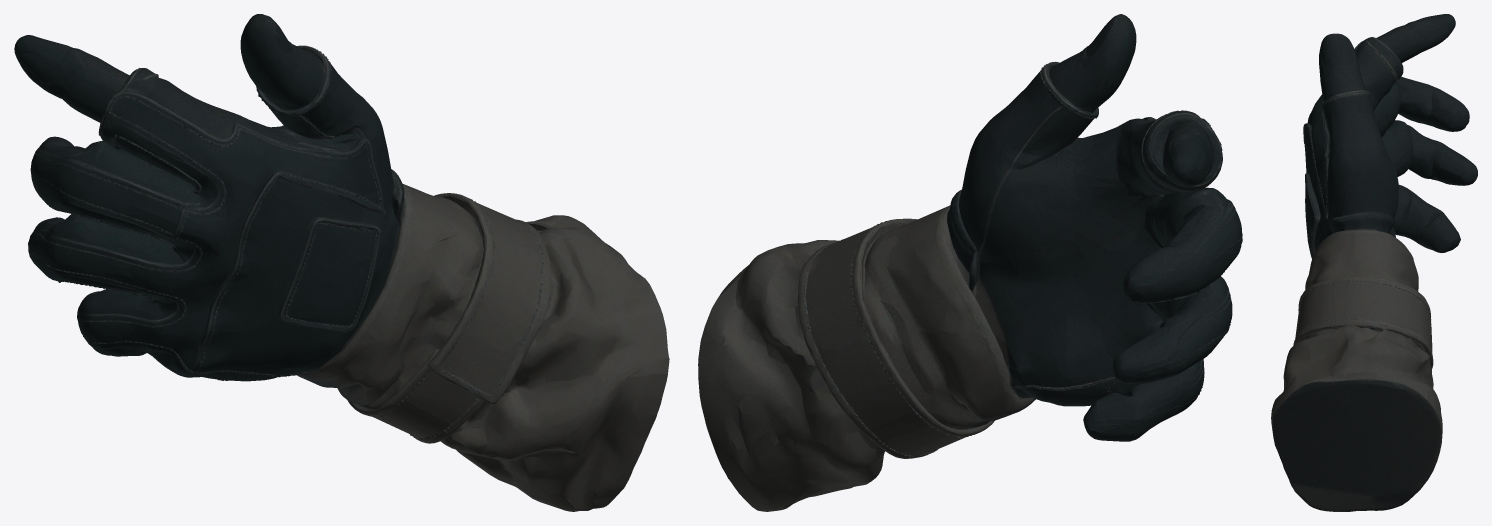
Rendered from glove.glb.
3 views of the same model, side by side, from view 1: azimuth 30°, elevation 25°; view 2: azimuth 150°, elevation 25°; view 3: azimuth 270°, elevation 25° (orthographic). The views are drawn at different scales.
Size of the model in its own units: 1.89 by 1.9 by 0.951.
1 material, 1 textured.
